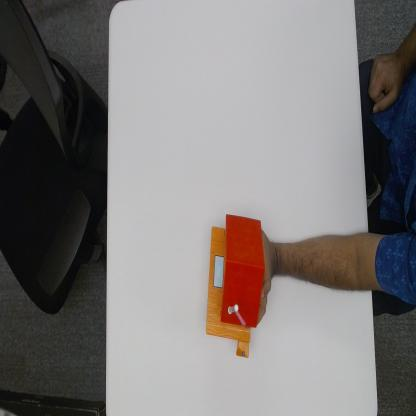Arm: (278, 233, 371, 294)
Hand: (262, 235, 277, 320)
House: (206, 214, 264, 358)
